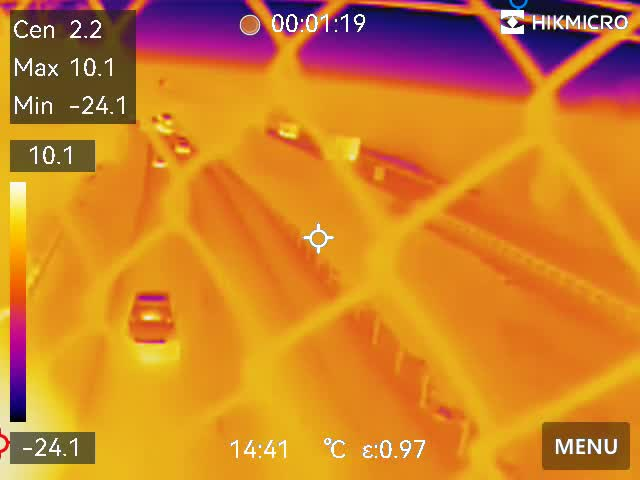heavyTruck: (313, 135, 365, 159), (275, 120, 302, 143)
vehicle: (125, 288, 182, 361), (172, 137, 196, 155), (150, 150, 167, 167)
